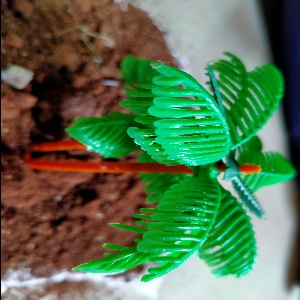plant: (82, 45, 286, 292)
